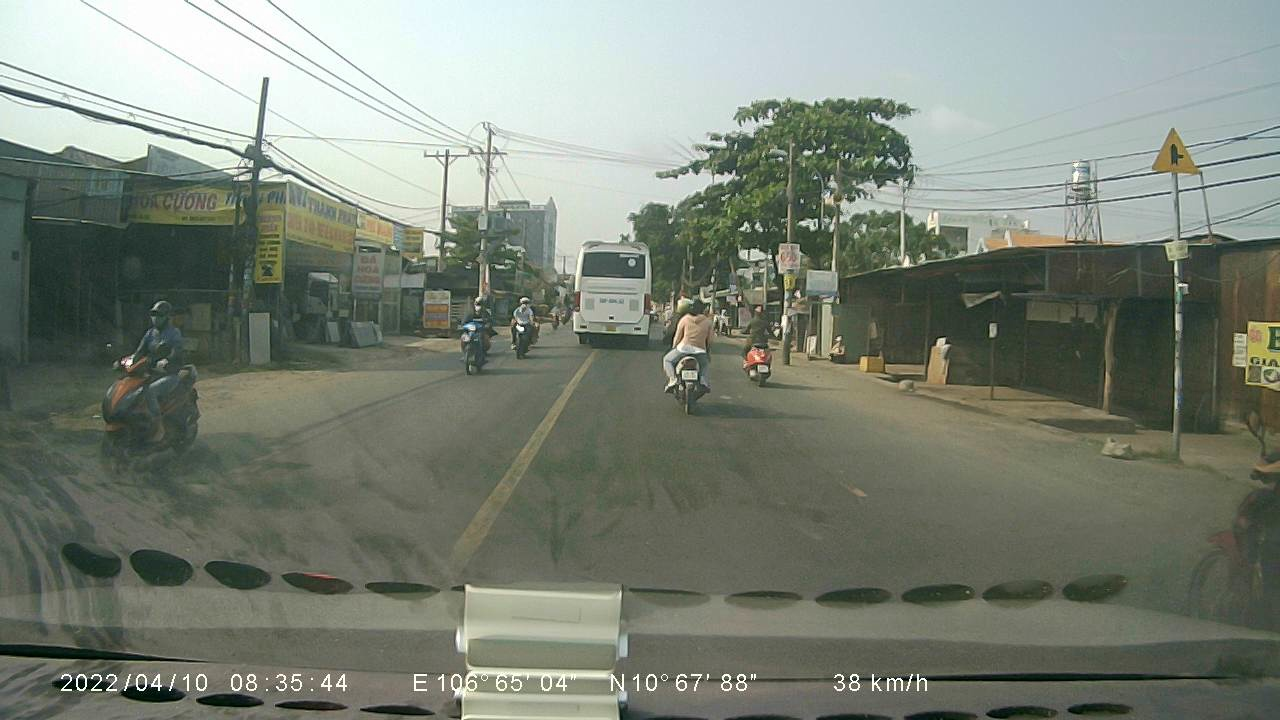Giao nhau voi duong khong uu tien: (1150, 123, 1202, 173)
